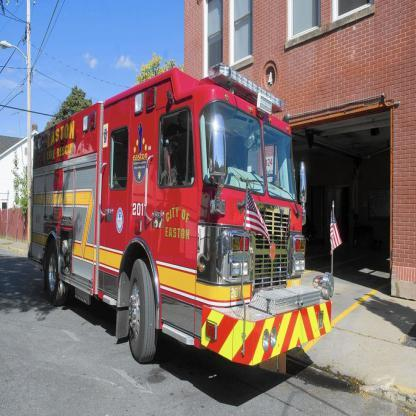fire-truck: (11, 29, 354, 389)
